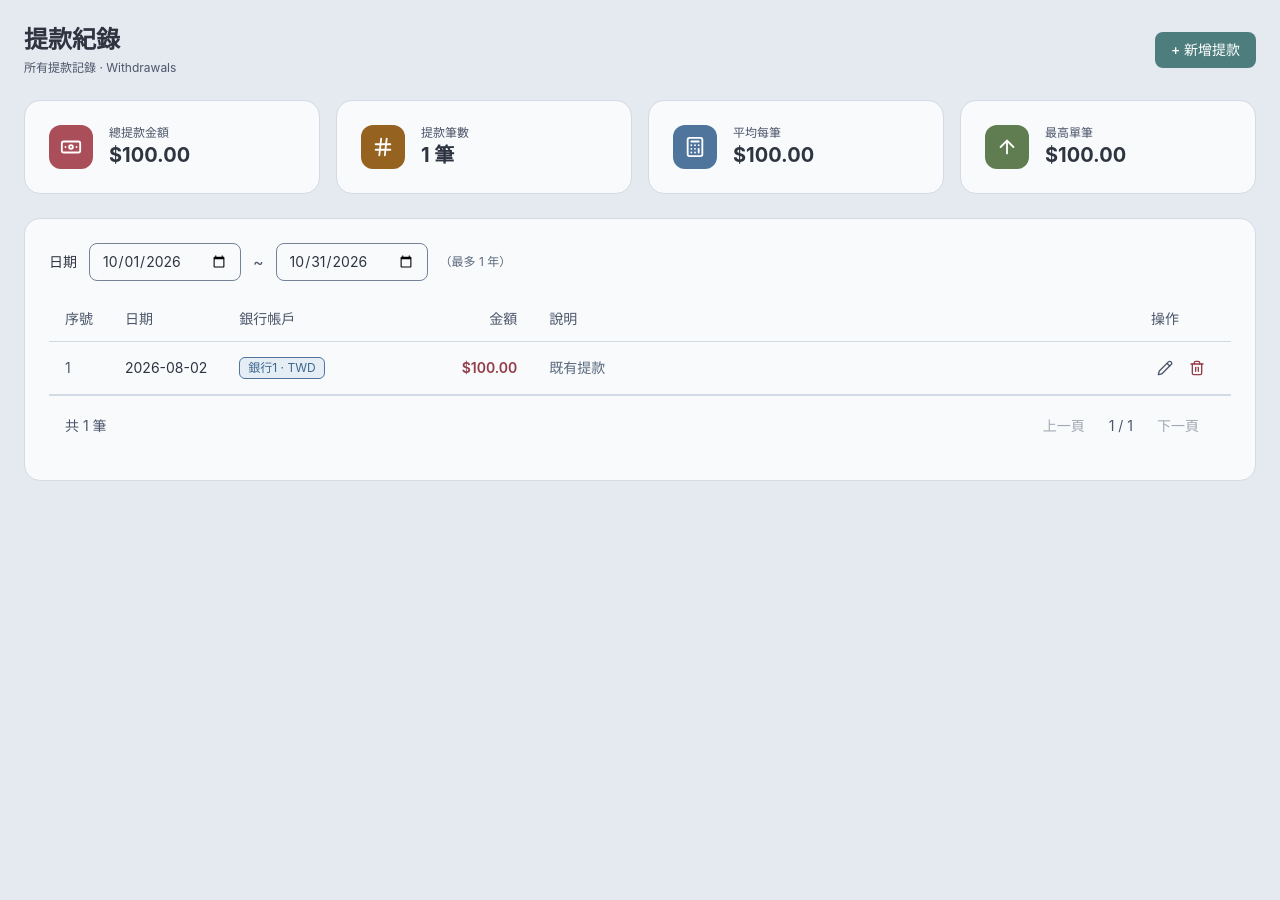
Test: ignores a previous form response after close and reopen
Click the button "+ 新增提款": {"x": 1205, "y": 50} [1155,32,1256,68]
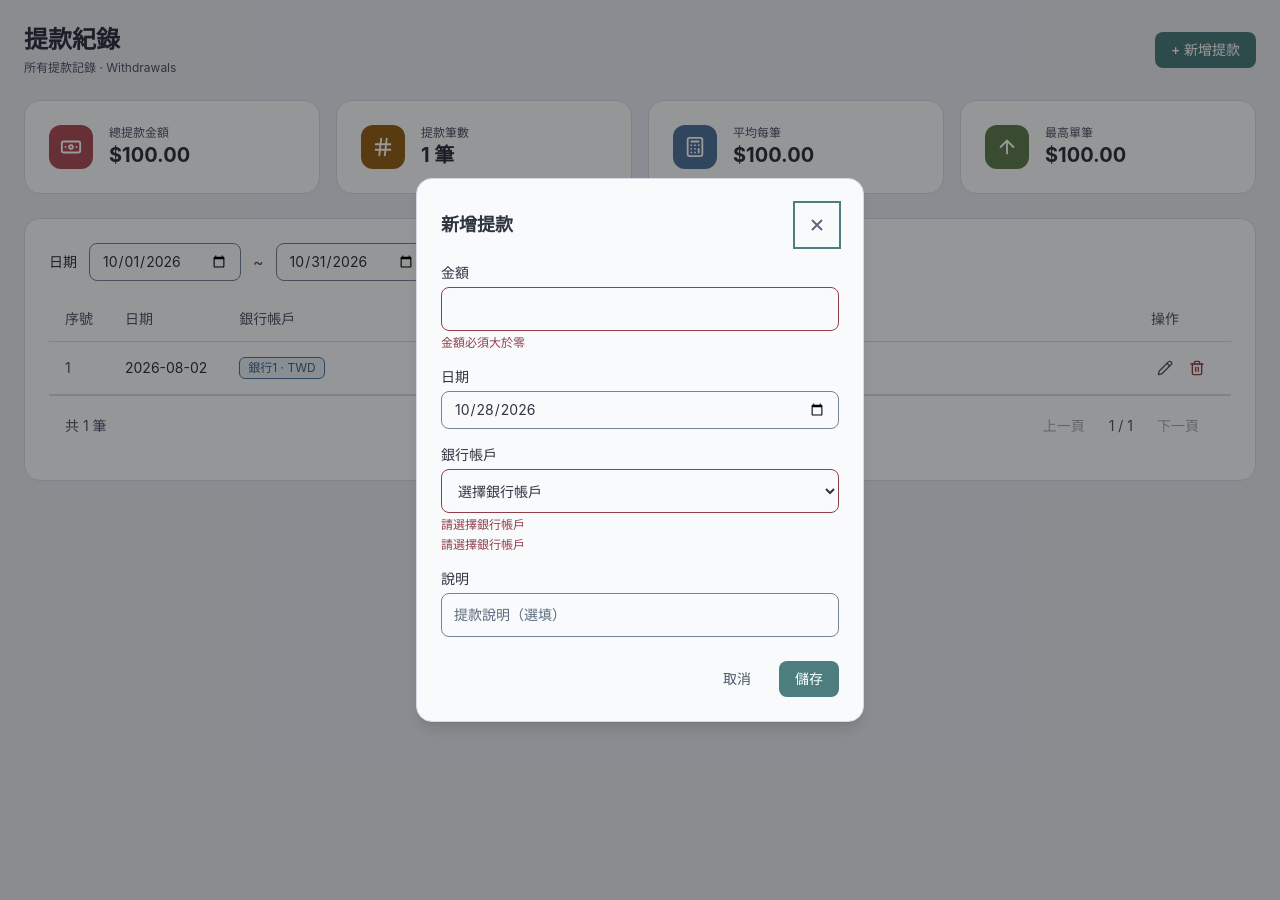
Click the button "取消": {"x": 737, "y": 679} [707,661,767,697]
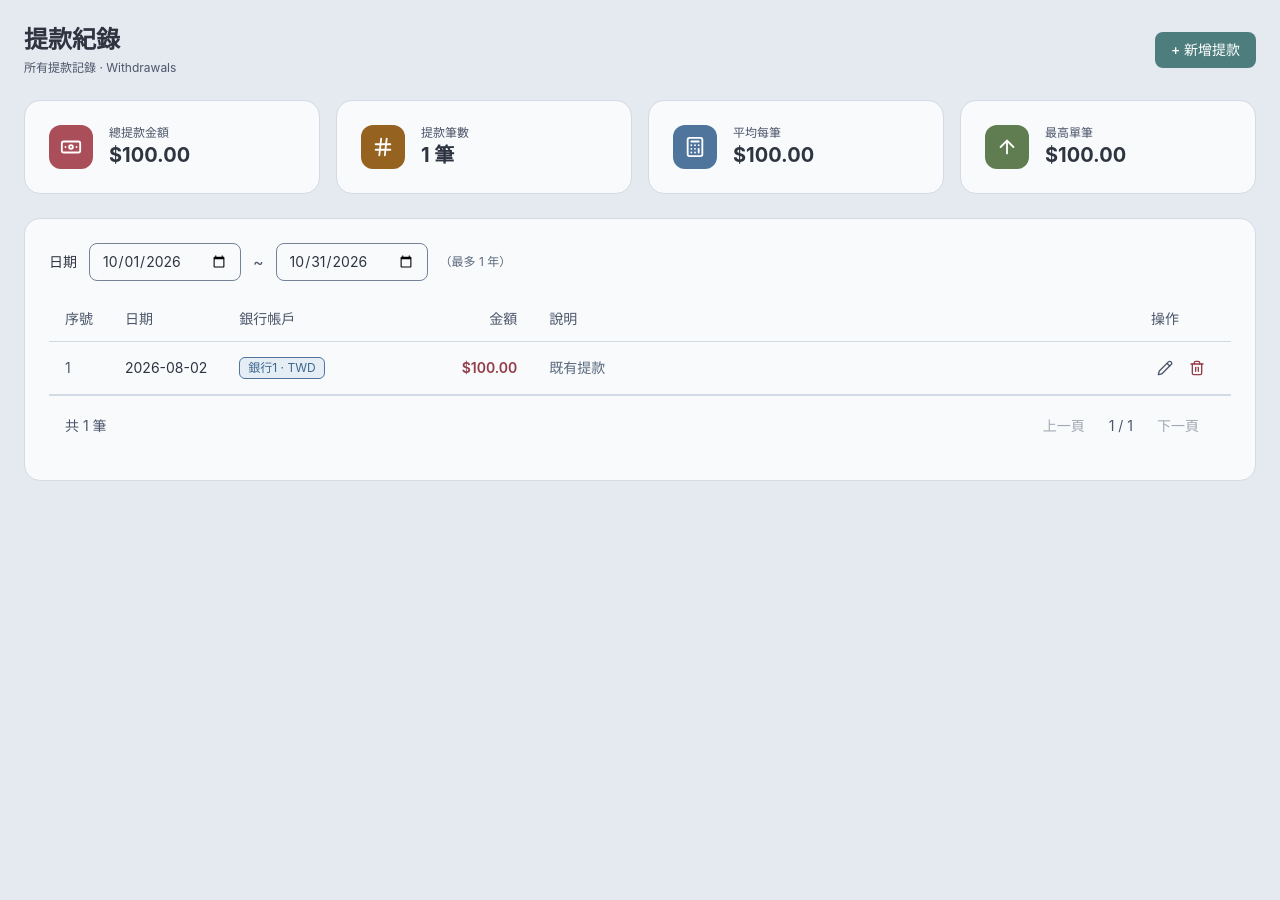
Click the button "+ 新增提款": {"x": 1205, "y": 50} [1155,32,1256,68]
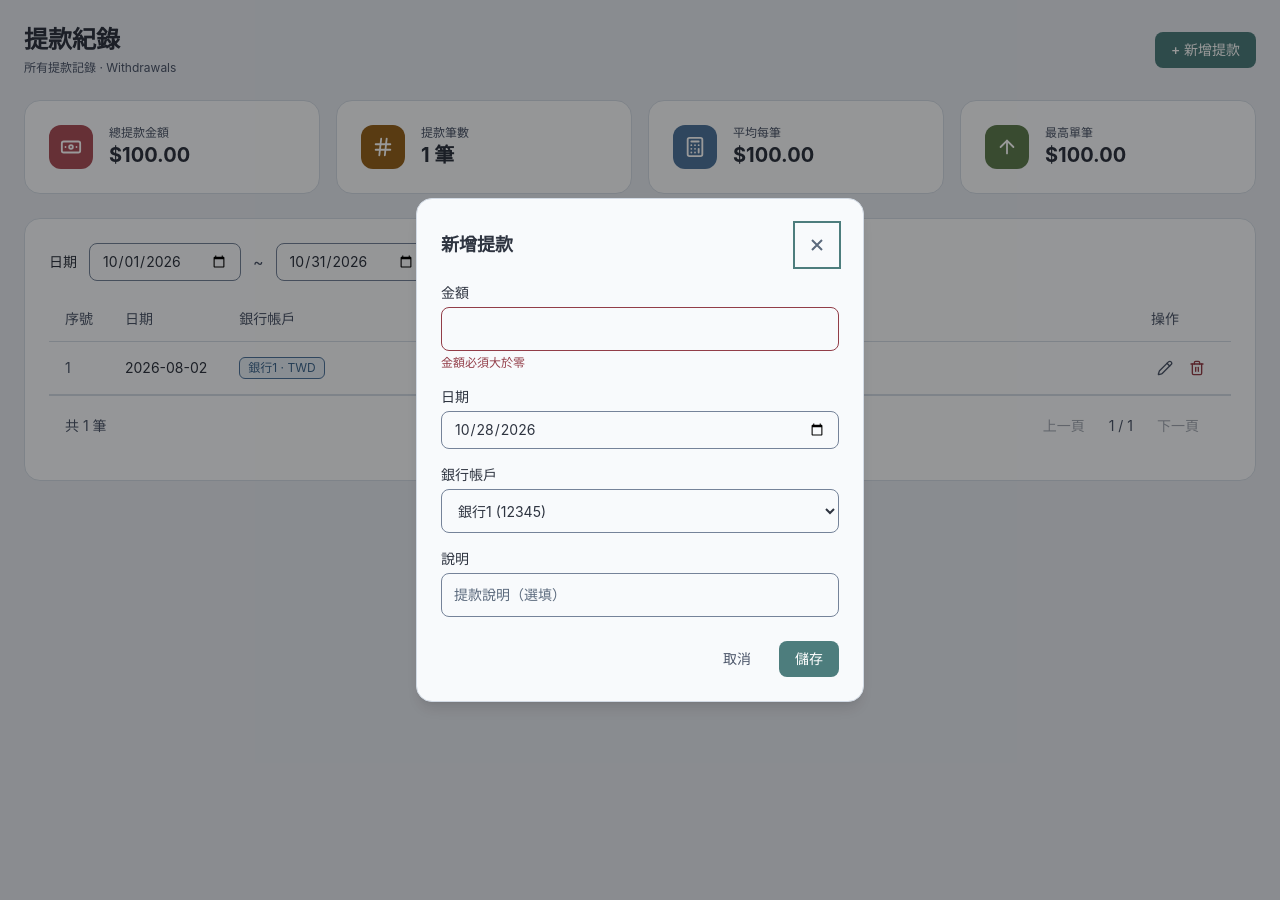
Expected: the dropdown labelled "銀行帳戶" shows "銀行1 (12345)", [441,489,839,533]
